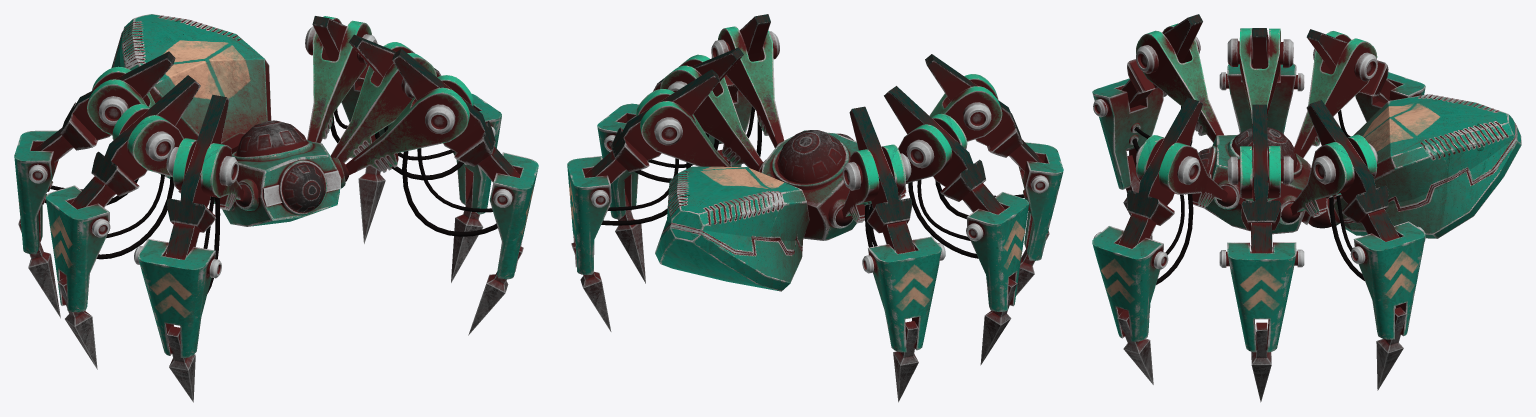
File: Spider mech.obj
3 views of the same model, side by side, from view 1: azimuth 30°, elevation 25°; view 2: azimuth 150°, elevation 25°; view 3: azimuth 270°, elevation 25° (orthographic). The views are drawn at different scales.
Visible parts, largest first — view 1: telo_low_Sphere.004, rameno_low_Cube.011, stehno_low_Cube.008, hrot_low_Cube.009, sroub_low_Cylinder.008, koule_low.001_Sphere.001, koule_low_Sphere.008, hadicka1_BezierCurve.001, BezierCurve.003, BezierCurve, BezierCurve.002, stit_low_Cube.002; view 2: telo_low_Sphere.004, rameno_low_Cube.011, stehno_low_Cube.008, hrot_low_Cube.009, sroub_low_Cylinder.008, koule_low.001_Sphere.001, BezierCurve.003, BezierCurve.005, BezierCurve.002, BezierCurve.004; view 3: telo_low_Sphere.004, rameno_low_Cube.011, stehno_low_Cube.008, sroub_low_Cylinder.008, hrot_low_Cube.009, koule_low.001_Sphere.001, kloub_low_Sphere.003, hadicka1_BezierCurve.001, BezierCurve.005.
Boxes of the visible parts, left/top/right/bottom form: telo_low_Sphere.004: left=14, top=14, right=538, bottom=357; rameno_low_Cube.011: left=87, top=16, right=473, bottom=208; stehno_low_Cube.008: left=33, top=16, right=520, bottom=259; hrot_low_Cube.009: left=18, top=134, right=523, bottom=402; sroub_low_Cylinder.008: left=28, top=26, right=512, bottom=278; koule_low.001_Sphere.001: left=236, top=120, right=307, bottom=156; koule_low_Sphere.008: left=282, top=163, right=325, bottom=212; hadicka1_BezierCurve.001: left=207, top=151, right=497, bottom=293; BezierCurve.003: left=96, top=131, right=463, bottom=259; BezierCurve: left=203, top=148, right=492, bottom=248; BezierCurve.002: left=106, top=126, right=454, bottom=238; stit_low_Cube.002: left=263, top=170, right=340, bottom=206; telo_low_Sphere.004: left=567, top=90, right=1063, bottom=352; rameno_low_Cube.011: left=636, top=26, right=1002, bottom=221; stehno_low_Cube.008: left=584, top=14, right=1044, bottom=253; hrot_low_Cube.009: left=571, top=149, right=1049, bottom=402; sroub_low_Cylinder.008: left=591, top=31, right=1048, bottom=273; koule_low.001_Sphere.001: left=777, top=130, right=845, bottom=183; BezierCurve.003: left=634, top=138, right=978, bottom=258; BezierCurve.005: left=601, top=162, right=873, bottom=247; BezierCurve.002: left=648, top=133, right=970, bottom=240; BezierCurve.004: left=608, top=158, right=877, bottom=246; telo_low_Sphere.004: left=1092, top=63, right=1521, bottom=352; rameno_low_Cube.011: left=1136, top=23, right=1377, bottom=216; stehno_low_Cube.008: left=1118, top=14, right=1399, bottom=253; sroub_low_Cylinder.008: left=1093, top=36, right=1425, bottom=269; hrot_low_Cube.009: left=1117, top=155, right=1406, bottom=402; koule_low.001_Sphere.001: left=1232, top=127, right=1297, bottom=170; kloub_low_Sphere.003: left=1216, top=185, right=1331, bottom=228; hadicka1_BezierCurve.001: left=1132, top=138, right=1193, bottom=284; BezierCurve.005: left=1329, top=197, right=1364, bottom=280.
Bounding box in the file's own units: 10.29 × 6.41 × 9.41.
